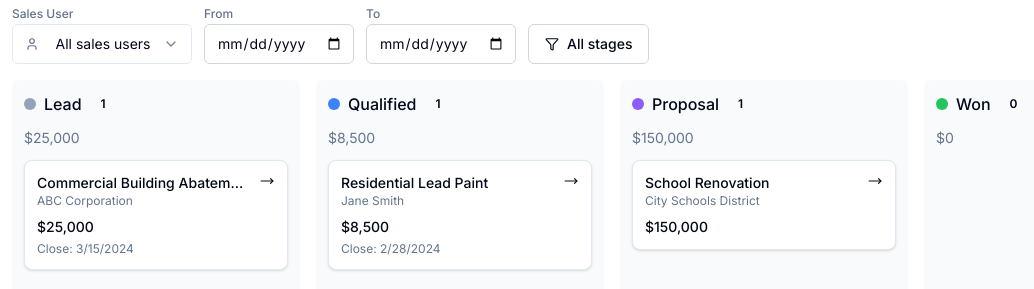
PipelineKanban › filters (PA4) › resets all filters via the Reset button
This screenshot has width=1034, height=289.
Type "2024-01-16" into the date field labelled "From" at point(279, 44), box [204, 24, 354, 64]
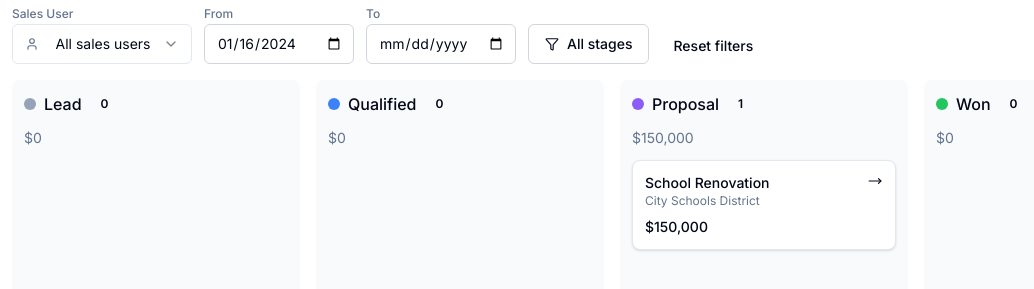
Now the link "Commercial Building Abatement" is gone
Click the button "Reset filters" at point(713, 46), box [662, 28, 765, 64]
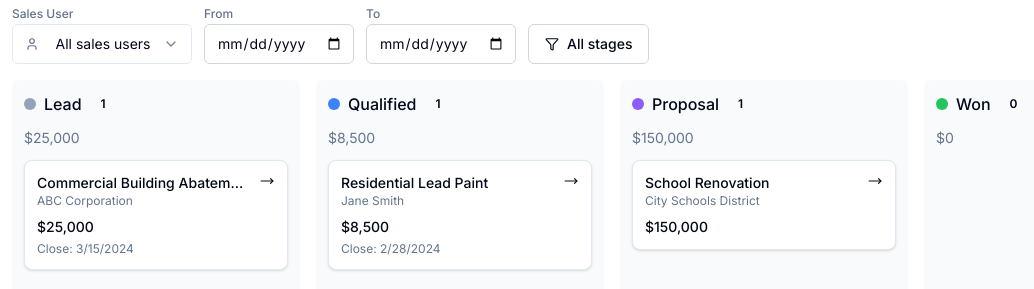
Expected: the text "School Renovation" is shown, [645, 174, 770, 191]
Now the text "Commercial Building Abatement" is shown, box [37, 173, 247, 193]
Now the text "Residential Lead Paint" is shown, box [341, 174, 488, 191]
